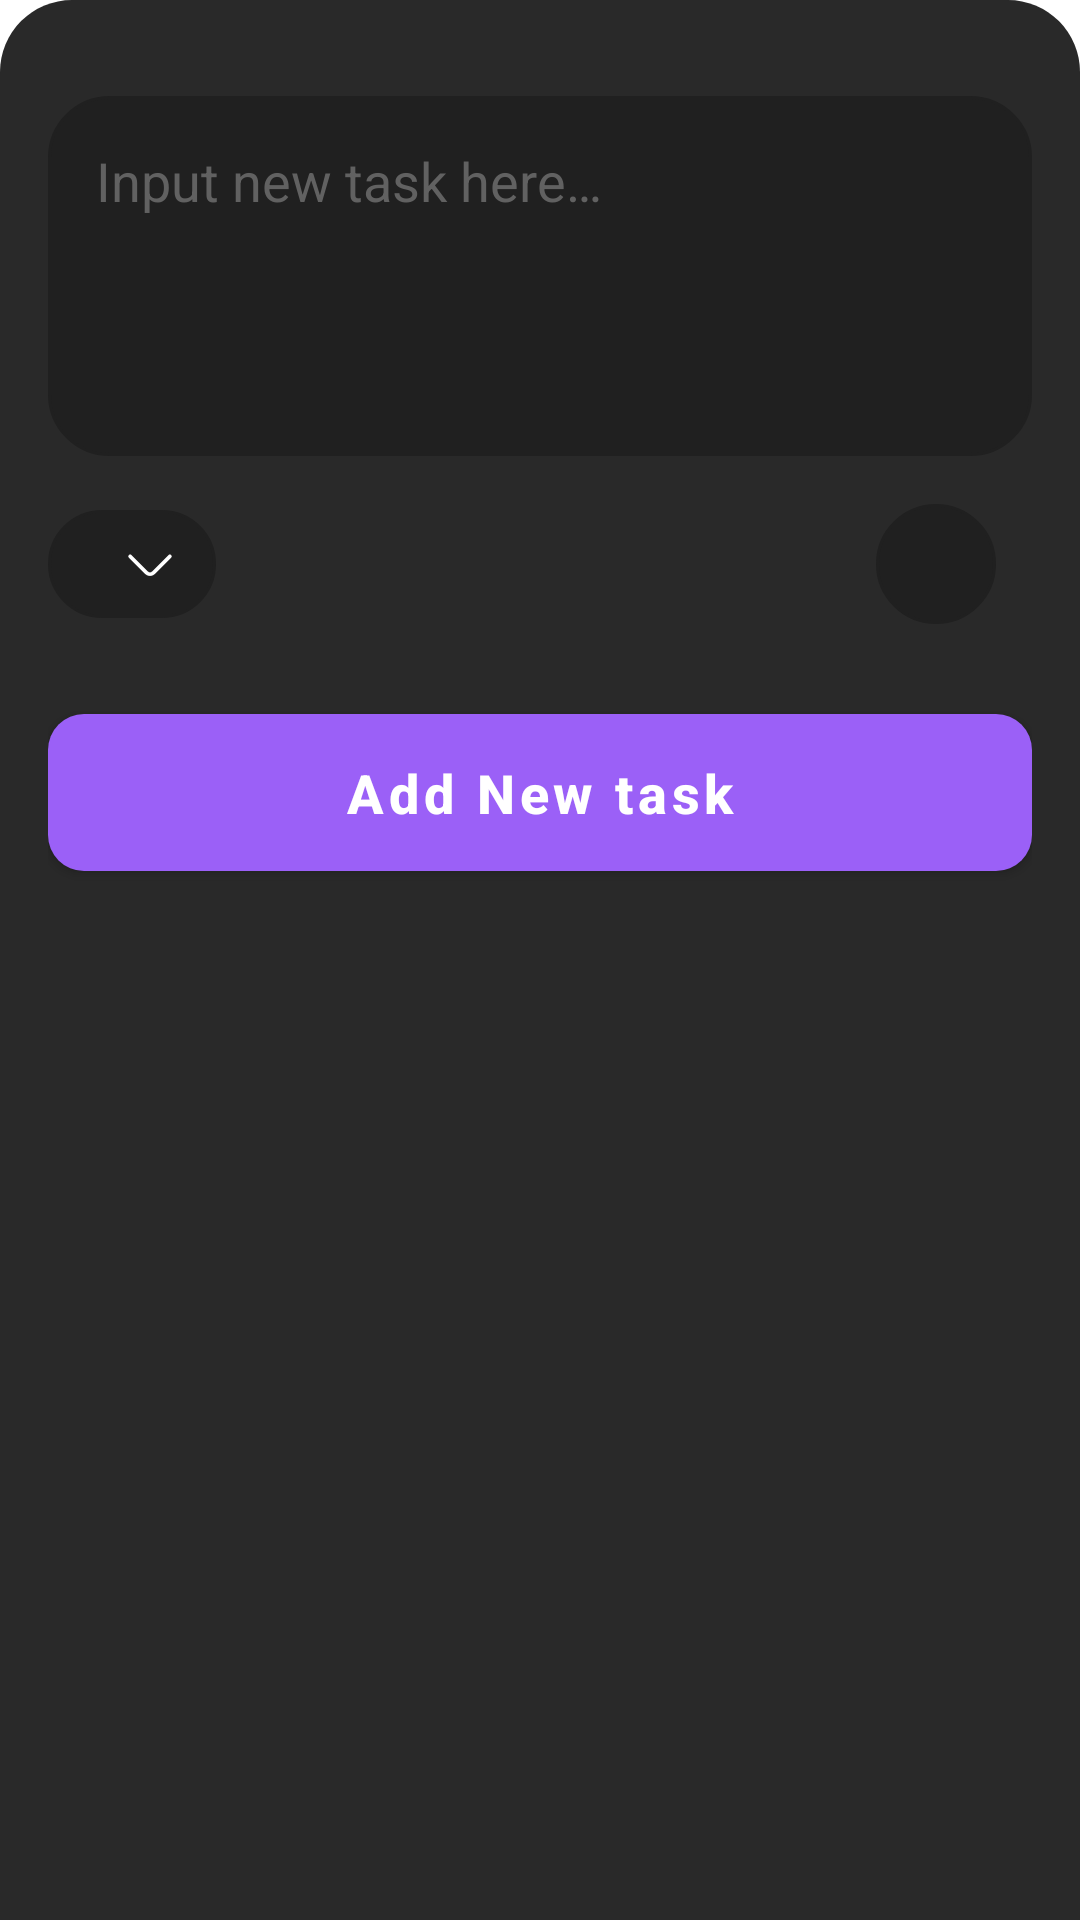

Where to tap for icons on this 1080px x 1920px app screen, as (x,y):
arrow down: (150,565)
